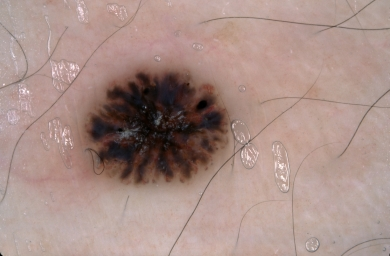seborrheic keratosis: (78, 60, 241, 196)
